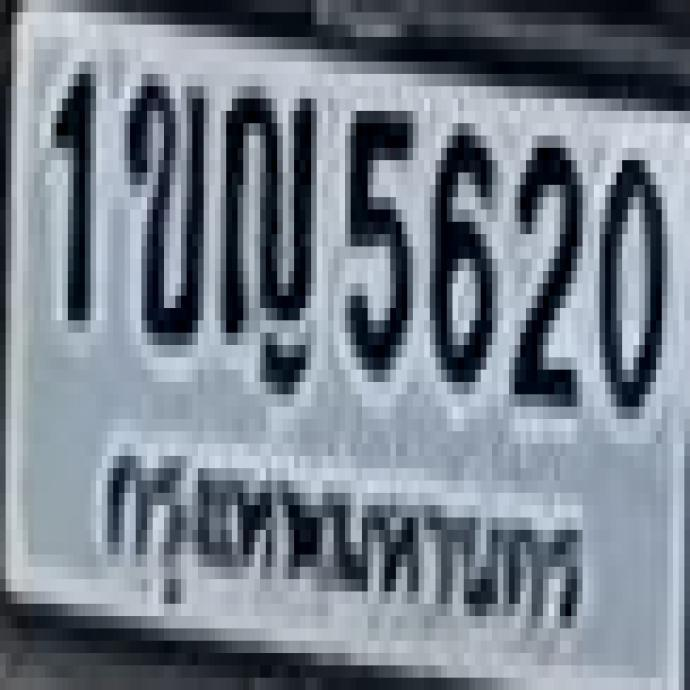0: (594, 146, 660, 405)
1: (50, 55, 90, 317)
2: (507, 125, 576, 394)
5: (341, 100, 408, 369)
6: (426, 112, 489, 378)
A02: (120, 66, 202, 334)
A13: (217, 77, 311, 336)
BKK: (90, 421, 593, 652)
